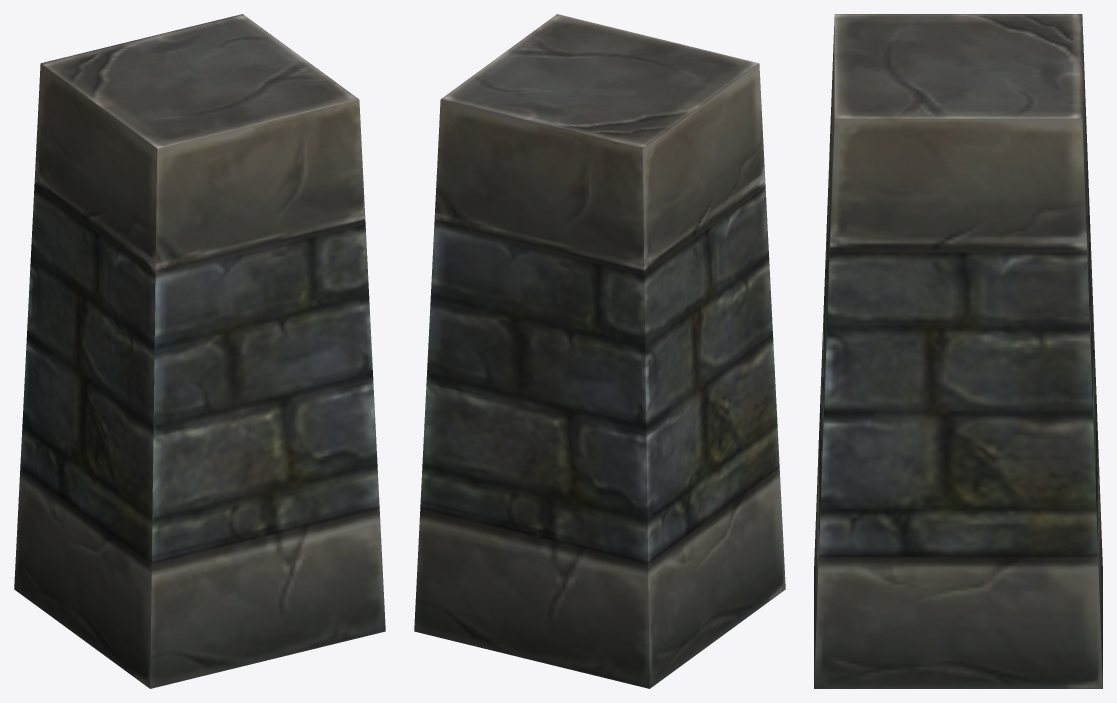
The model's file is Z_shizhuang001.fbx.
3 renders of one model, left to right at view 1: azimuth 30°, elevation 25°; view 2: azimuth 150°, elevation 25°; view 3: azimuth 270°, elevation 25°, orthographic. The views are drawn at different scales.
Visible parts, largest first — view 1: Z_shizhuang002; view 2: Z_shizhuang002; view 3: Z_shizhuang002.
Boxes of the visible parts, x1,y1,x2,y2 form: Z_shizhuang002: (14,14,385,688); Z_shizhuang002: (414,14,785,688); Z_shizhuang002: (814,14,1102,688).
Size of the model in its own units: 52.74 by 113 by 52.74.
